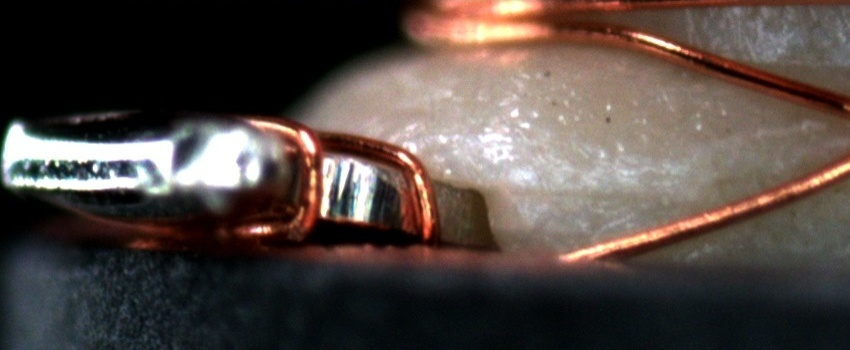DL: (490, 162, 677, 222)
TE: (225, 107, 441, 247)
